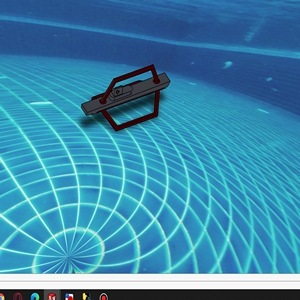submarine: (88, 67, 170, 123)
